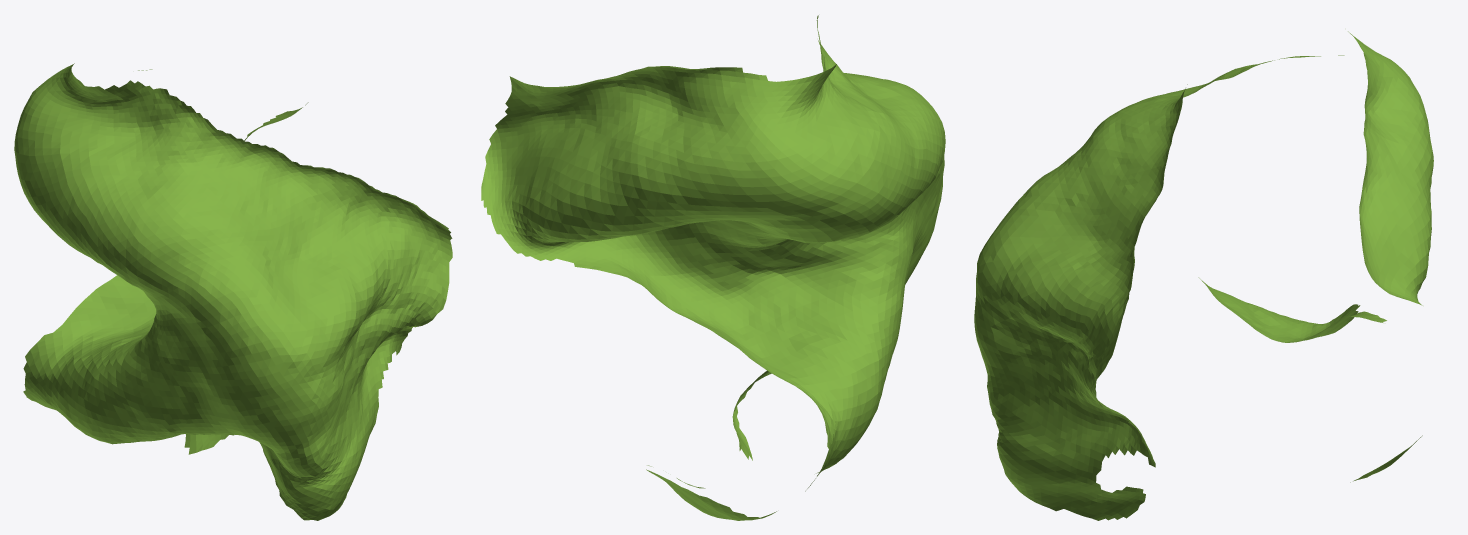
The model's file is lh_supramarginal.glb.
3 renders of one model, left to right at view 1: azimuth 30°, elevation 25°; view 2: azimuth 150°, elevation 25°; view 3: azimuth 270°, elevation 25°, orthographic. The views are drawn at different scales.
Parts seen in each view (by area): view 1: world; view 2: world; view 3: world.
Part boxes in pixels (x1,y1,x2,y2): world: (14,63,452,520); world: (481,15,945,520); world: (974,31,1433,520).
Size of the model in its own units: 32.52 by 36.95 by 36.86.
